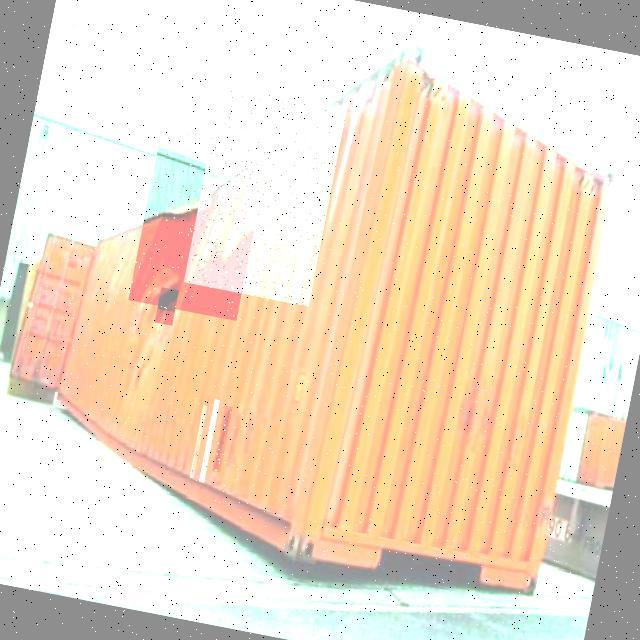Deframe: (184, 86, 347, 307), (128, 126, 270, 324)
Hole: (155, 289, 179, 326)
Rust: (199, 400, 220, 483), (212, 406, 233, 473), (190, 406, 208, 479)
